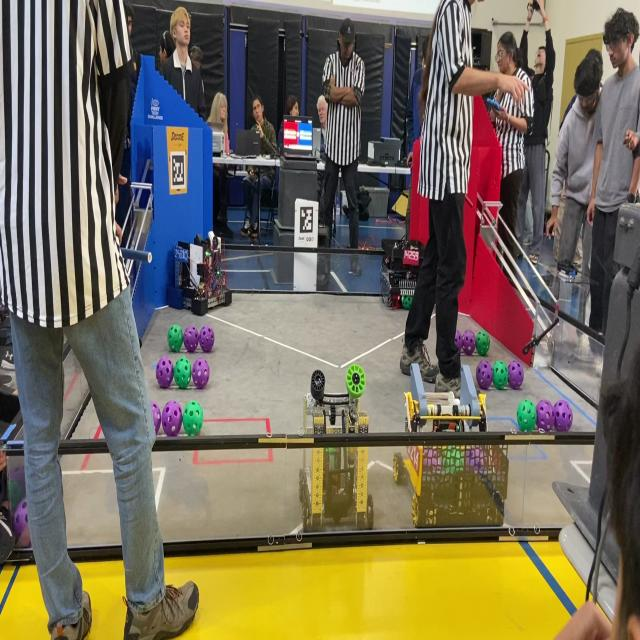artifact_green: (183, 401, 203, 436), (346, 364, 365, 398), (517, 399, 536, 432), (442, 447, 464, 473), (7, 480, 25, 511), (174, 357, 191, 388), (311, 370, 325, 401), (493, 361, 508, 389), (168, 325, 183, 352), (476, 331, 490, 356), (401, 296, 413, 309), (407, 295, 414, 309), (400, 296, 407, 309), (326, 448, 337, 453)
artifact_purple: (162, 400, 182, 436), (13, 499, 28, 539), (536, 400, 555, 431), (554, 400, 572, 431), (156, 357, 173, 388), (193, 358, 209, 389), (8, 463, 25, 491), (476, 361, 493, 389), (466, 446, 484, 472), (508, 360, 524, 389), (424, 447, 441, 473), (183, 326, 199, 352), (200, 326, 214, 352), (462, 330, 475, 355), (151, 402, 161, 434), (454, 329, 462, 351)
